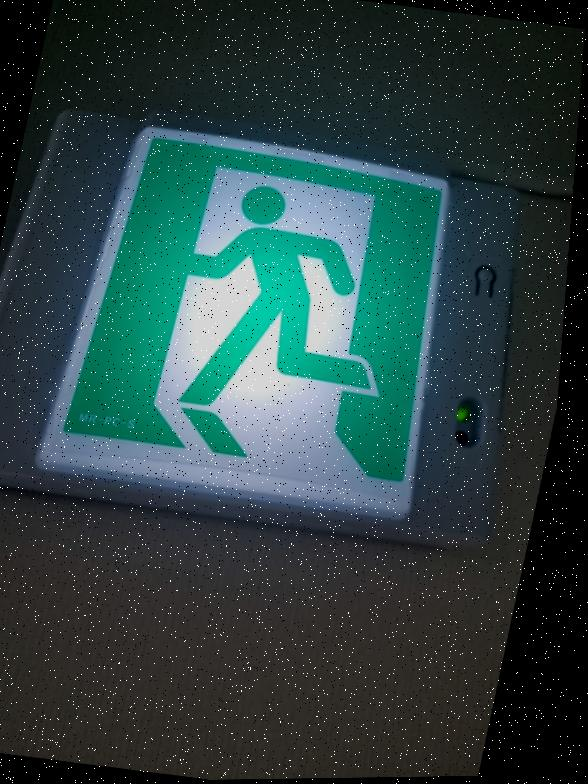emergency_exit: (35, 125, 454, 526)
